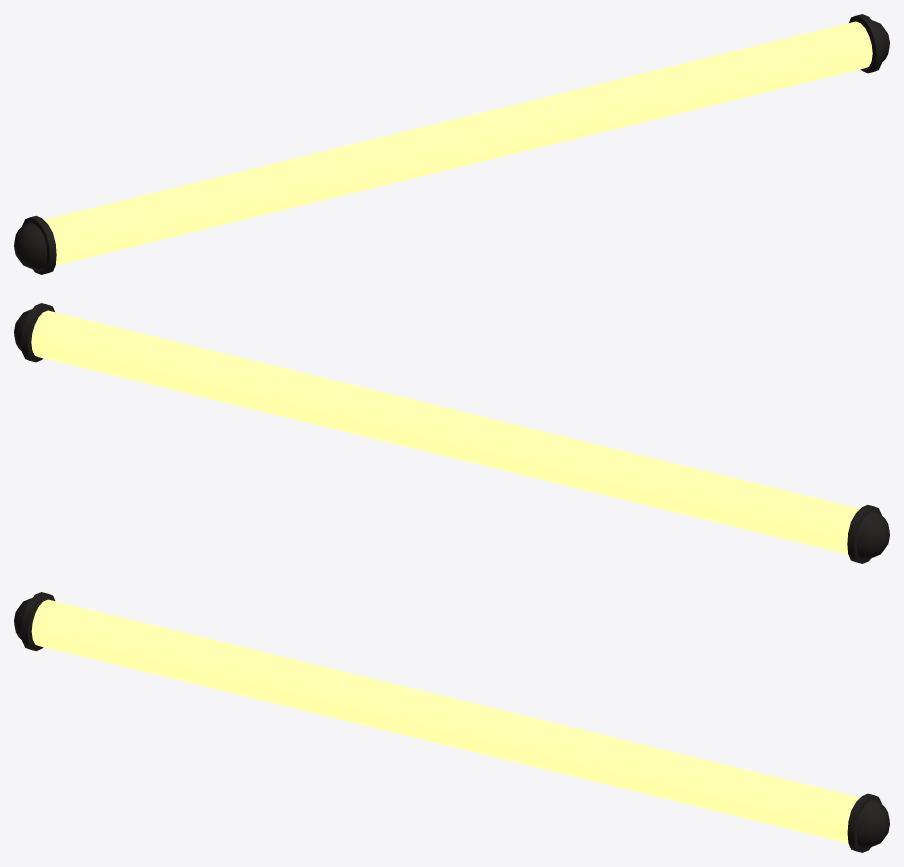
File: wall_light.fbx
3 renders of one model, top to bottom at view 1: azimuth 30°, elevation 25°; view 2: azimuth 150°, elevation 25°; view 3: azimuth 330°, elevation 25°, orthographic.
Parts seen in each view (by area): view 1: Cube; view 2: Cube; view 3: Cube.
Boxes of the visible parts, x1,y1,x2,y2 form: Cube: (14,14,889,274); Cube: (14,303,889,563); Cube: (14,592,889,852).
Size of the model in its own units: 127 by 7.37 by 7.37.
